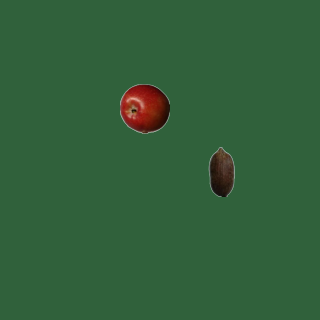Apple Braeburn: (119, 83, 169, 133)
Nut Pecan: (196, 146, 246, 196)
